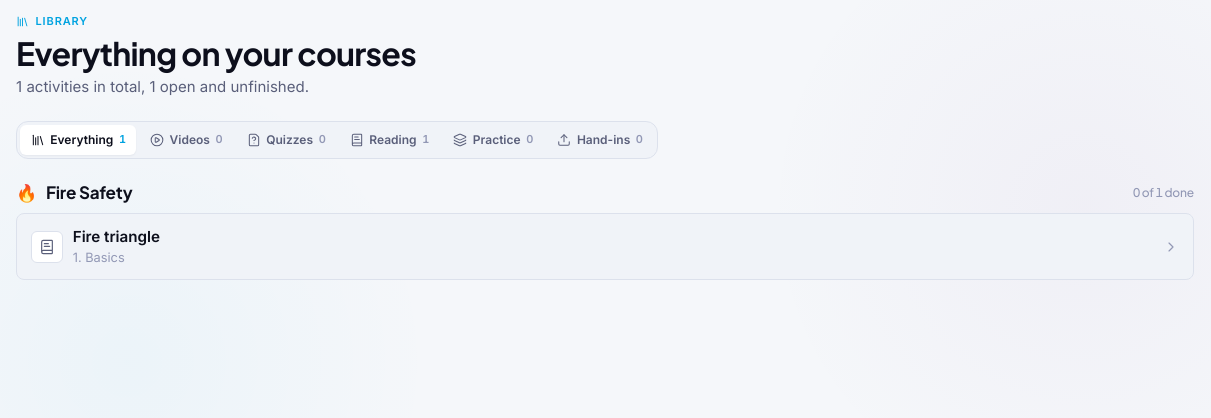
Test: filtering › says so when a filter empties the list
Step 1. Click the button "Hand-ins 0" → (600, 140), box [547,125,653,155]
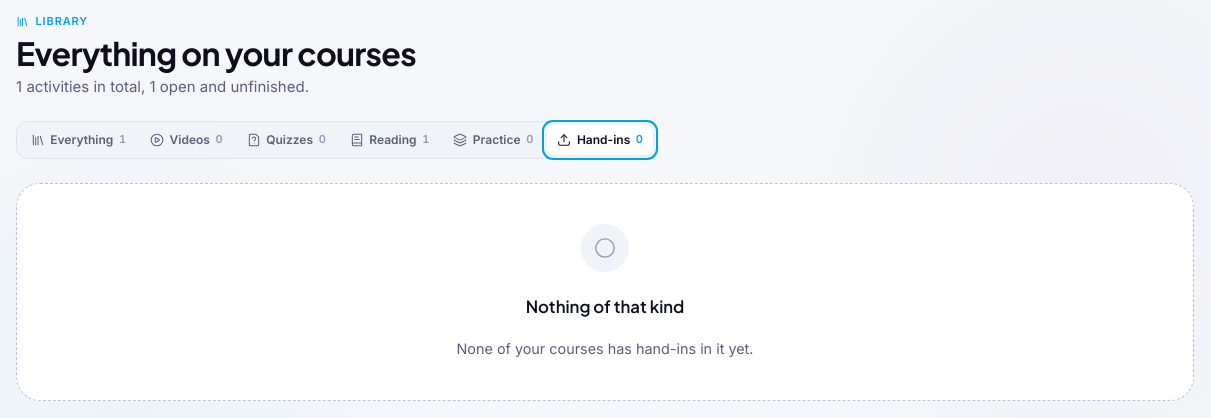
expect the text "Nothing of that kind" is shown: met, box [526,294,684,320]
